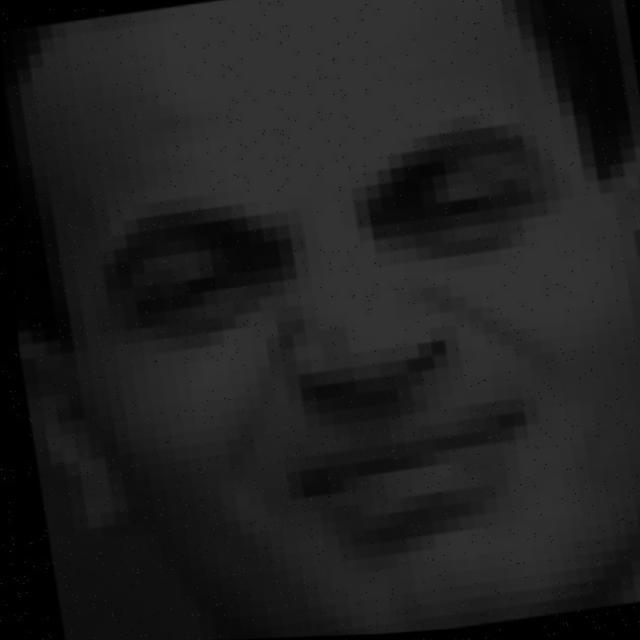Disgust: (66, 90, 640, 640)
